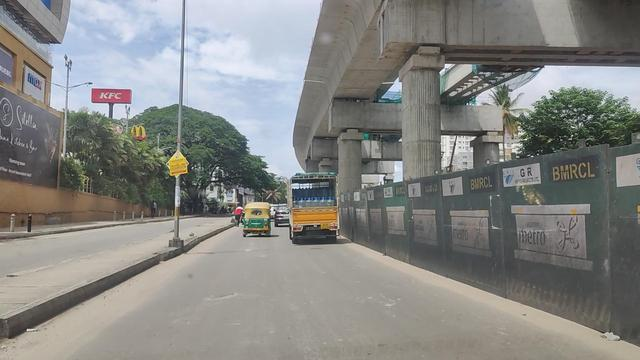HMV: (292, 171, 344, 249)
LMV: (239, 202, 272, 239)
RoadDamages: (207, 287, 239, 301)
